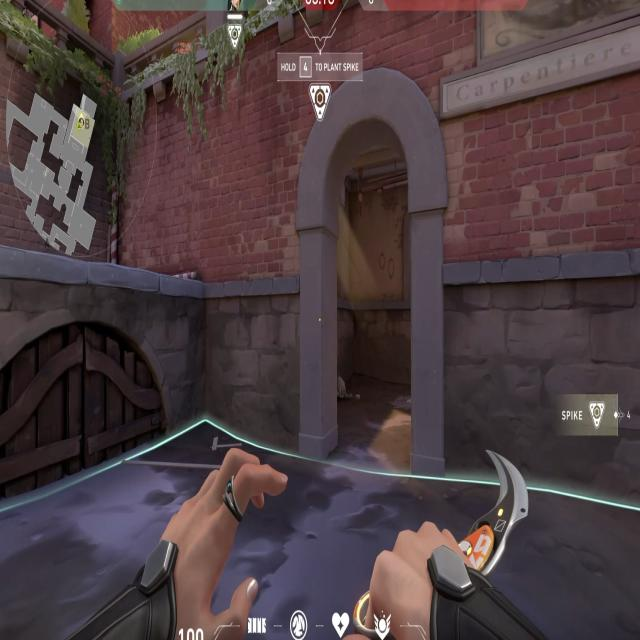B_Boathouse: (286, 38, 452, 488)
